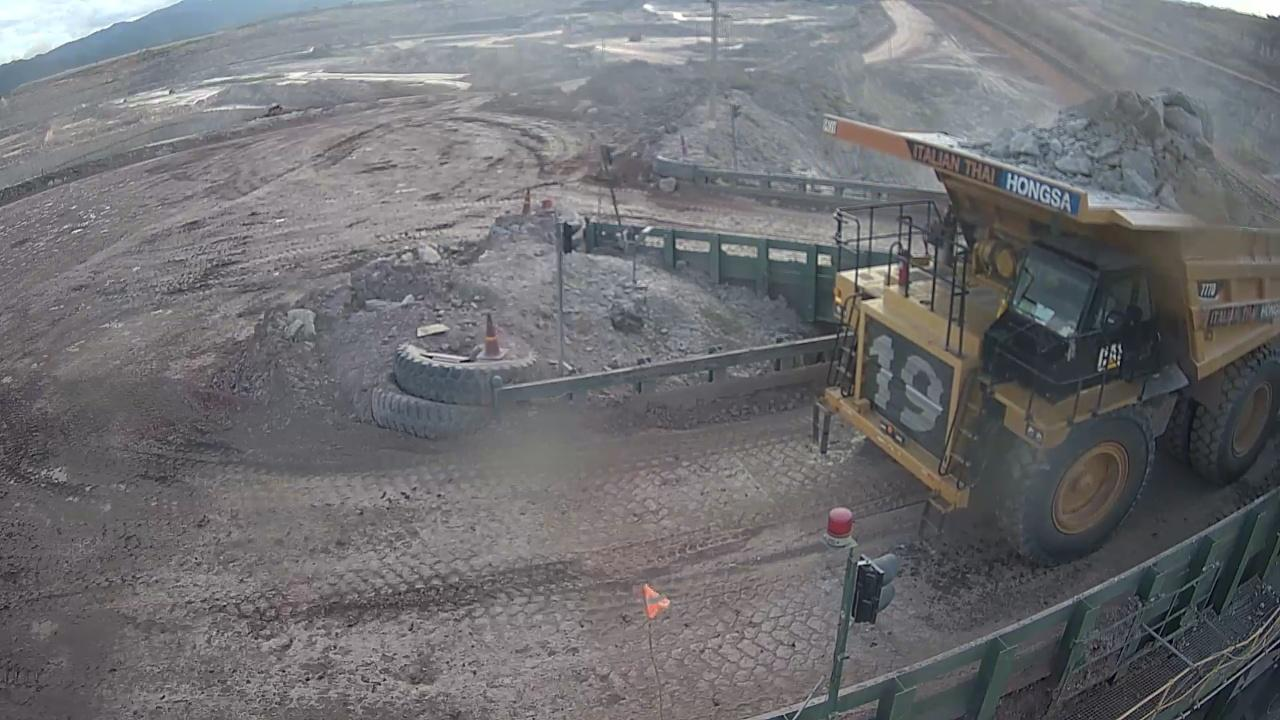front_number: (859, 329, 953, 449)
full_load: (988, 88, 1253, 212)
mining_truck: (809, 70, 1278, 568)
